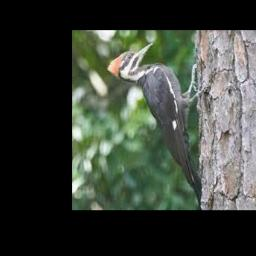Woodpecker: (106, 43, 203, 208)
